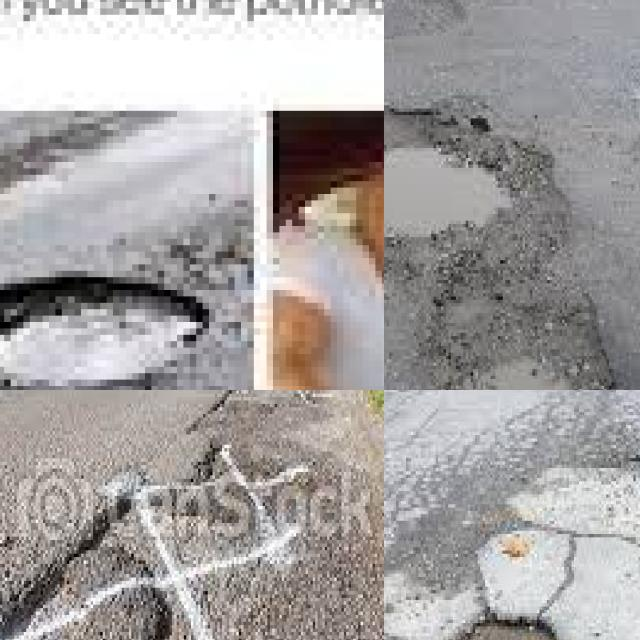Pothole: (105, 390, 370, 640), (384, 125, 614, 390), (0, 277, 209, 390)
